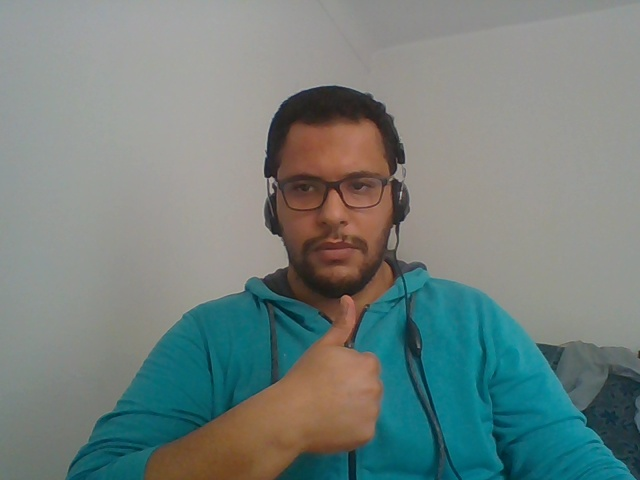ok: (271, 284, 395, 477)
